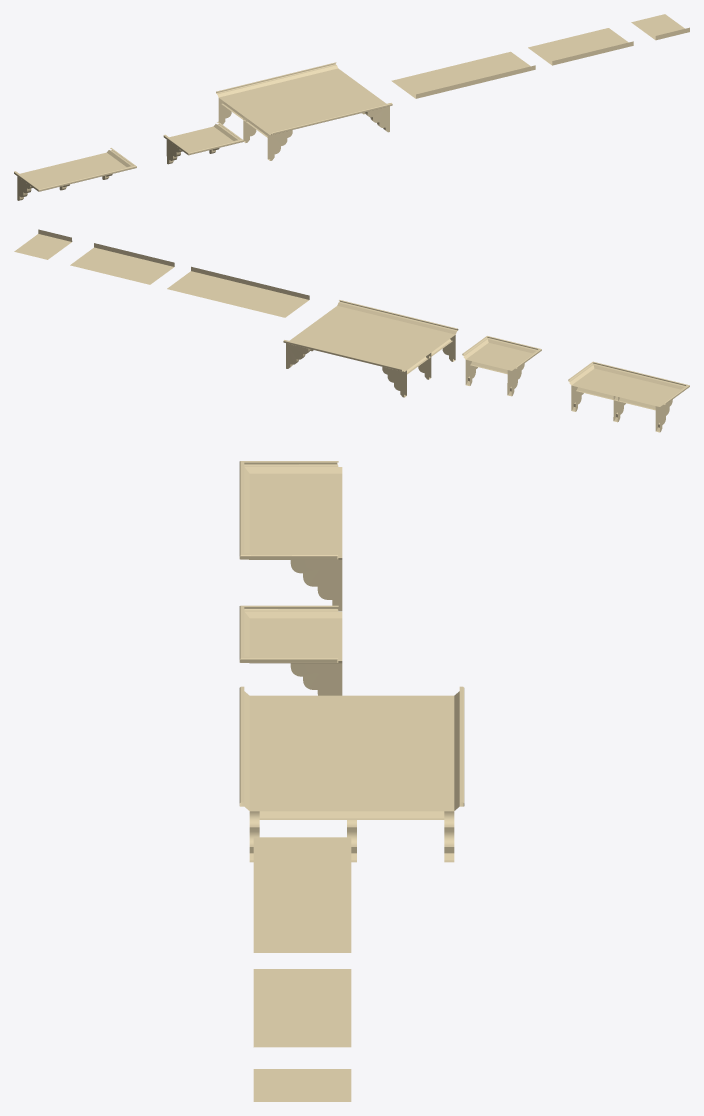
Rendered from Supports.fbx.
3 renders of one model, top to bottom at view 1: azimuth 30°, elevation 25°; view 2: azimuth 150°, elevation 25°; view 3: azimuth 270°, elevation 25°, orthographic. The views are drawn at different scales.
Parts seen in each view (by area): view 1: Support03, Support04, Support01, Support05, Support02, Support06; view 2: Support03, Support01, Support04, Support02, Support05, Support06; view 3: Support03, Support01, Support04, Support05, Support02, Support06.
Boxes of the visible parts, left/top/right/bottom form: Support03: left=216, top=62, right=392, bottom=160; Support04: left=391, top=51, right=535, bottom=98; Support01: left=14, top=148, right=136, bottom=200; Support05: left=528, top=28, right=633, bottom=65; Support02: left=163, top=121, right=243, bottom=164; Support06: left=631, top=14, right=689, bottom=40; Support03: left=283, top=300, right=458, bottom=397; Support01: left=568, top=361, right=689, bottom=432; Support04: left=167, top=266, right=309, bottom=317; Support02: left=462, top=336, right=541, bottom=396; Support05: left=70, top=243, right=174, bottom=284; Support06: left=14, top=229, right=72, bottom=259; Support03: left=239, top=686, right=464, bottom=862; Support01: left=239, top=461, right=342, bottom=611; Support04: left=253, top=837, right=351, bottom=952; Support05: left=253, top=969, right=351, bottom=1047; Support02: left=239, top=605, right=342, bottom=695; Support06: left=253, top=1069, right=351, bottom=1101.
Bounding box in the file's own units: 3064 × 135 × 460.
